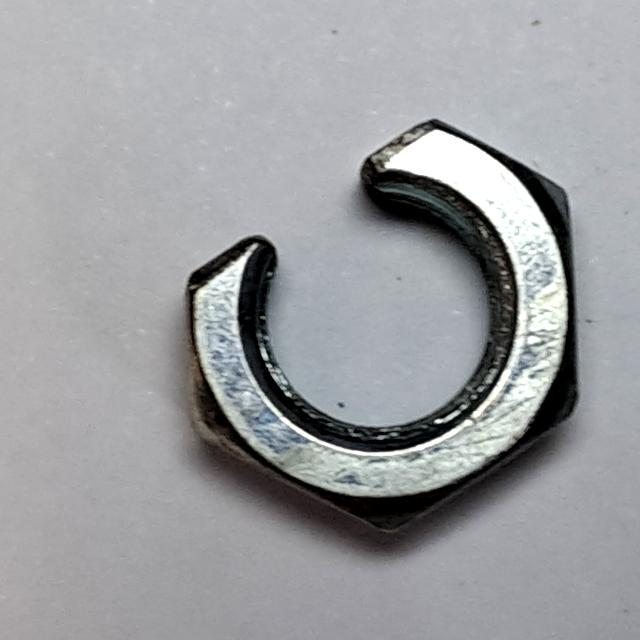Fracture: (173, 102, 591, 551)
